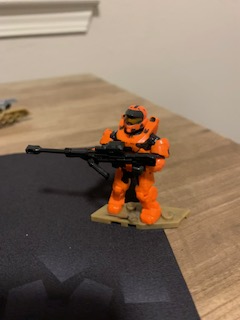spartan: (93, 102, 171, 226)
